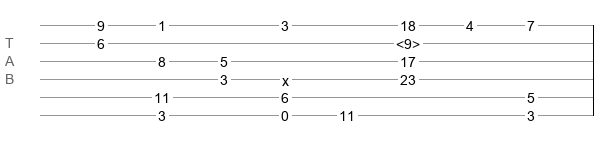0: (281, 108, 289, 118)
1: (158, 18, 166, 28)
11: (154, 90, 170, 100), (339, 108, 355, 118)
17: (400, 54, 416, 64)
18: (400, 18, 416, 28)
23: (400, 72, 416, 82)
3: (158, 108, 166, 118), (220, 72, 228, 82), (281, 18, 289, 28), (527, 108, 535, 118)
4: (466, 18, 474, 28)
5: (220, 54, 228, 64), (527, 90, 535, 100)
6: (97, 36, 105, 46), (281, 90, 289, 100)
7: (527, 18, 535, 28)
8: (158, 54, 166, 64)
9: (97, 18, 105, 28)
harmonic: (396, 36, 420, 46)
x: (282, 73, 289, 81)
